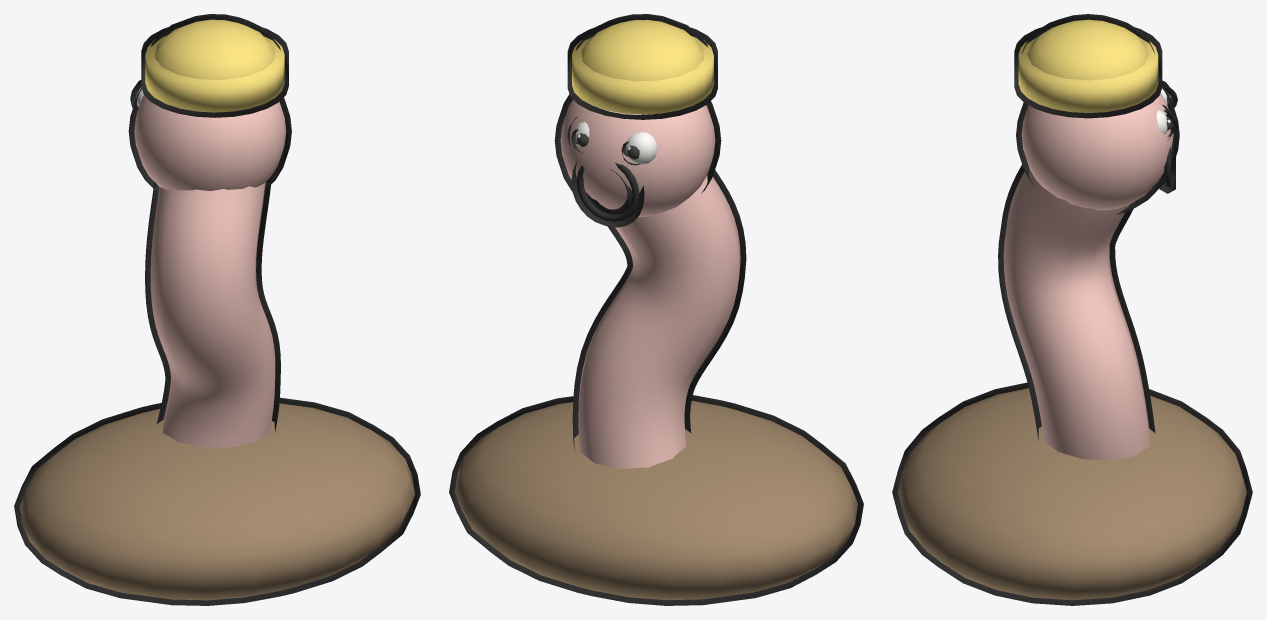
File: vf_worm.glb
3 renders of one model, left to right at view 1: azimuth 30°, elevation 25°; view 2: azimuth 150°, elevation 25°; view 3: azimuth 270°, elevation 25°, orthographic.
Parts seen in each view (by area): view 1: worm; view 2: worm; view 3: worm.
Boxes of the visible parts, x1,y1,x2,y2 form: worm: (14,14,420,605); worm: (449,14,863,605); worm: (892,14,1252,605).
Size of the model in its own units: 1.34 by 1.88 by 1.14.
